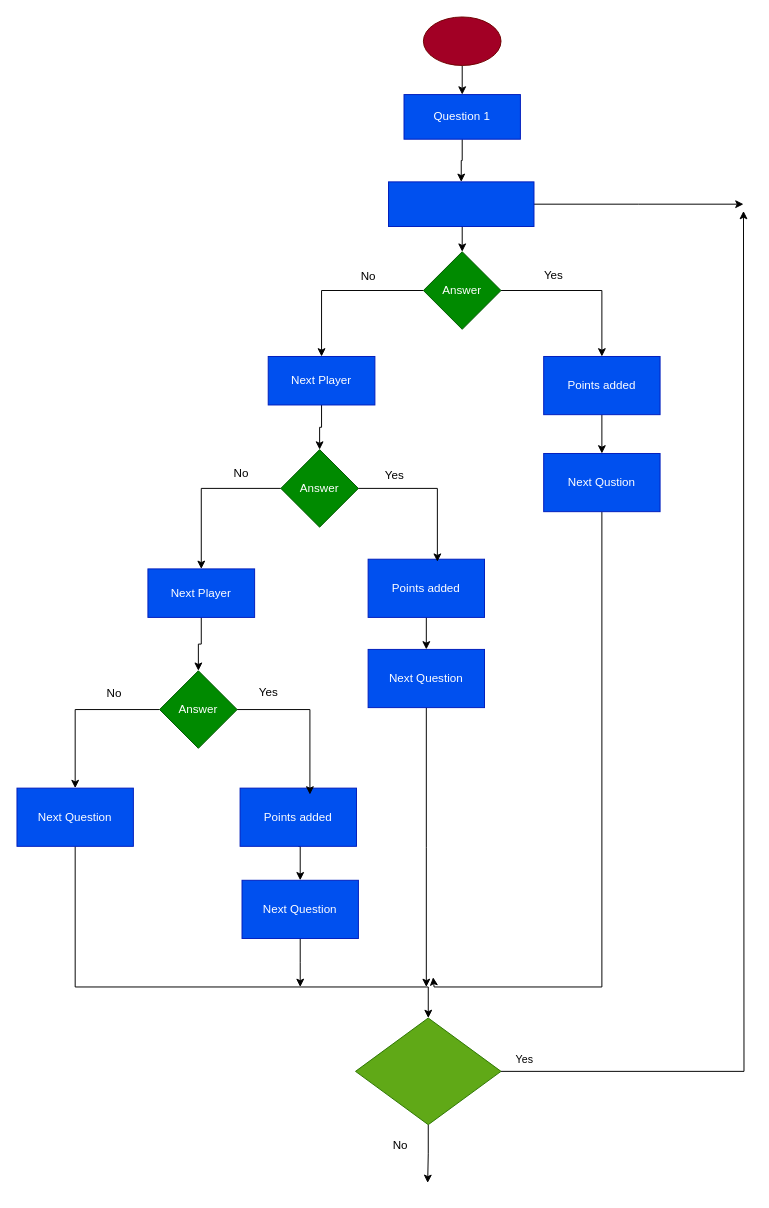
Some shapes in this 769 by 1208 pixel diagram are drawn without their labels. The centre of each missing label's shape, as x and y in pixels:
First Player buzzed in: (461,203)
ShouldRepeat = "yes ": (428,1071)
Start: (461,40)
